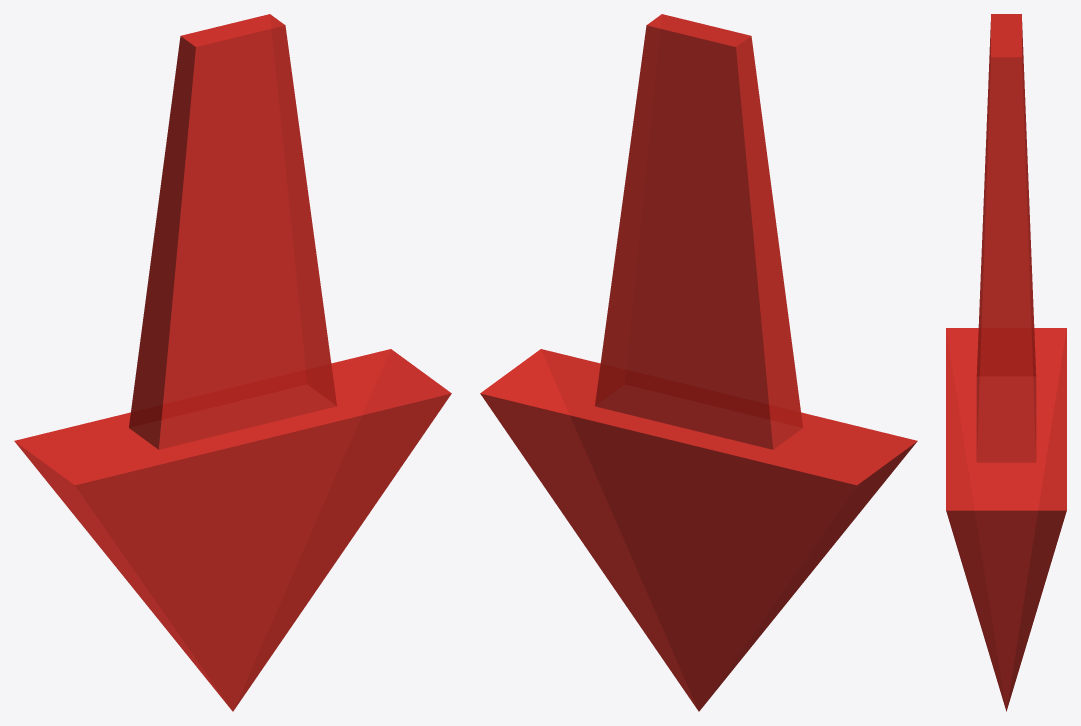
Rendered from arrow_skpark.dae.
3 views of the same model, side by side, from view 1: azimuth 30°, elevation 25°; view 2: azimuth 150°, elevation 25°; view 3: azimuth 270°, elevation 25° (orthographic).
Visible parts, largest first — view 1: Cube; view 2: Cube; view 3: Cube.
Part boxes in pixels (<box>): Cube: <box>14,14,451,711</box>; Cube: <box>480,14,917,711</box>; Cube: <box>946,14,1066,711</box>.
Bounding box in the file's own units: 1.57 × 0.4402 × 2.72.
